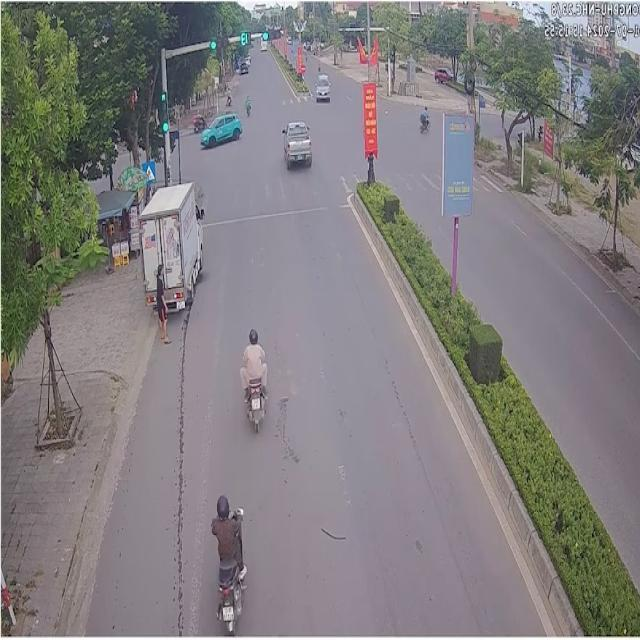car: (138, 180, 203, 310), (280, 119, 310, 166), (198, 112, 240, 145), (313, 73, 327, 100)
green_light: (160, 90, 168, 136), (261, 27, 281, 42), (209, 37, 229, 50), (239, 30, 251, 48)
motobike: (209, 494, 246, 632), (238, 327, 266, 429), (418, 103, 428, 131), (243, 92, 249, 113)
stop_line: (203, 201, 351, 225)
